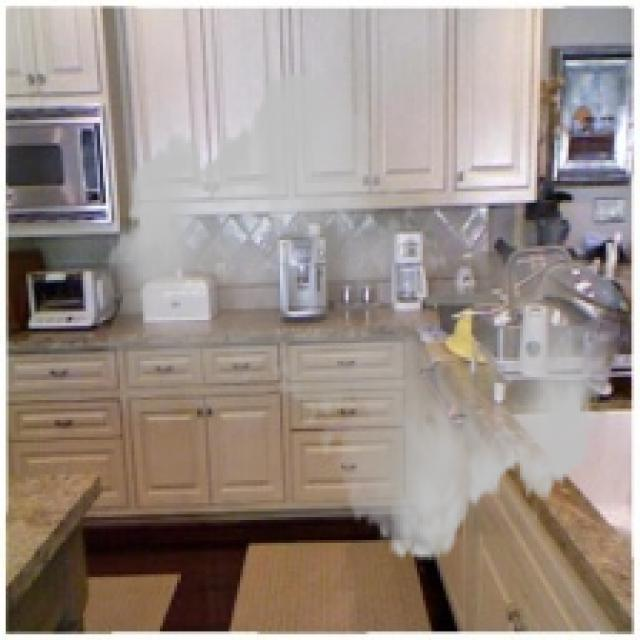Smoke: (100, 54, 620, 577)
